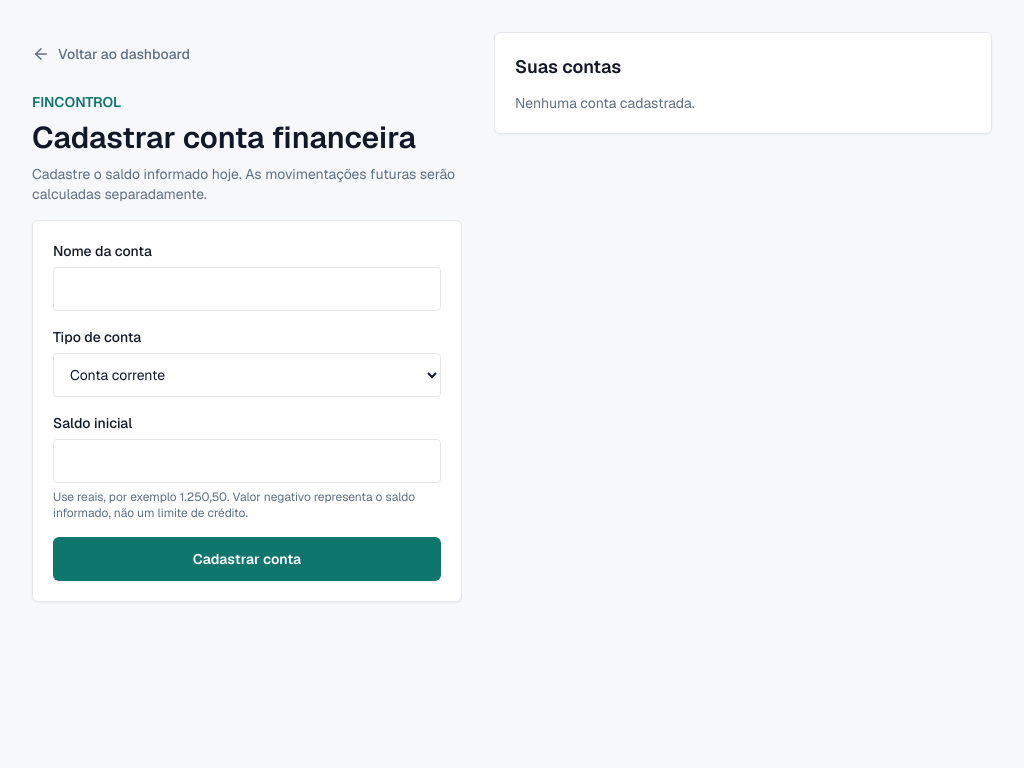
Test: AccountsPage › creates through the injected server flow and lists its persisted result
This screenshot has width=1024, height=768.
Type "Conta do dia a dia" into the field labelled "Nome da conta" at (247, 289), box [53,267,441,311]
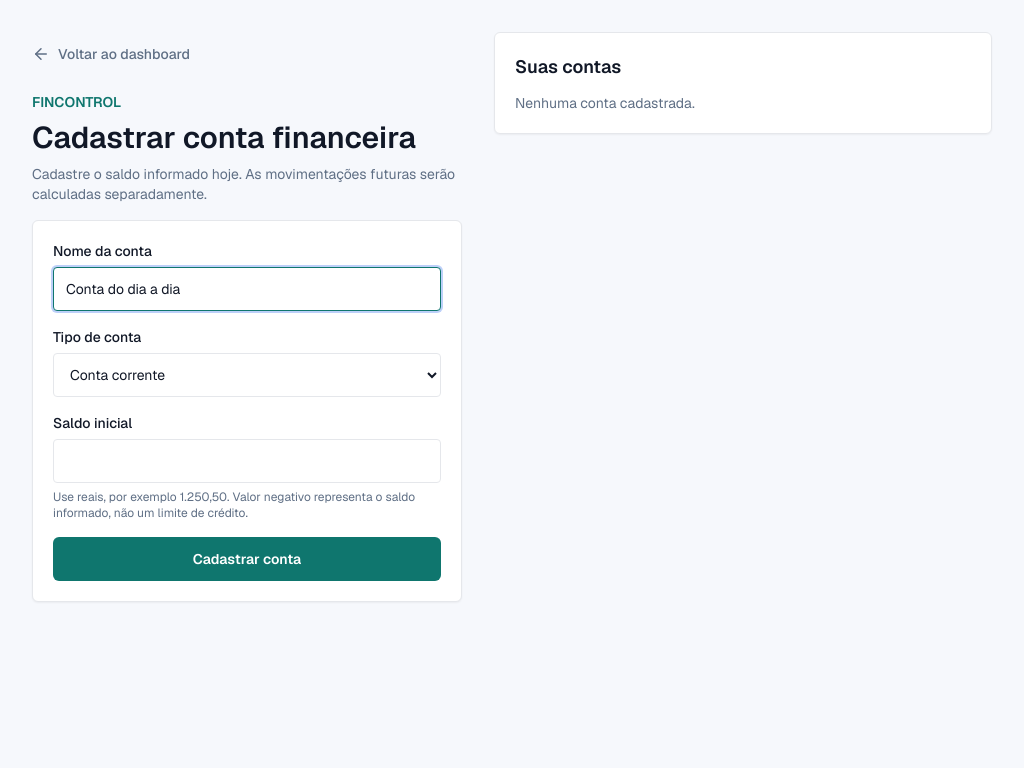
Select "Conta de pagamento" in the dropdown labelled "Tipo de conta" at (247, 375), box [53,353,441,397]
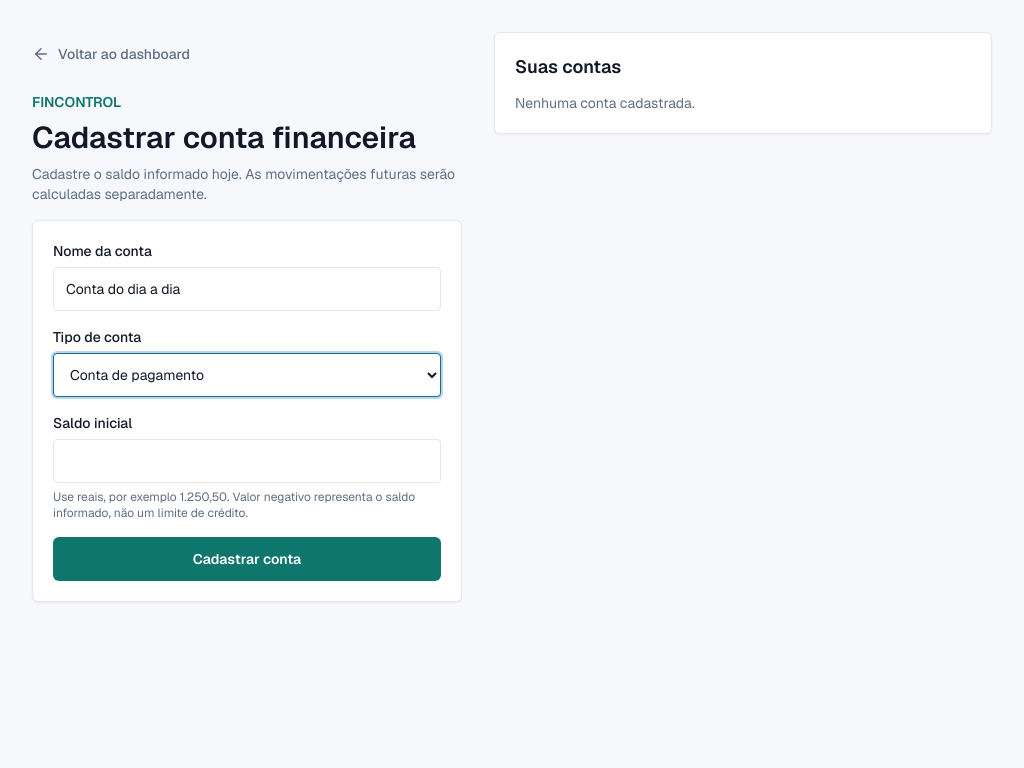
Type "-250,00" into the field labelled "Saldo inicial" at (247, 461), box [53,439,441,483]
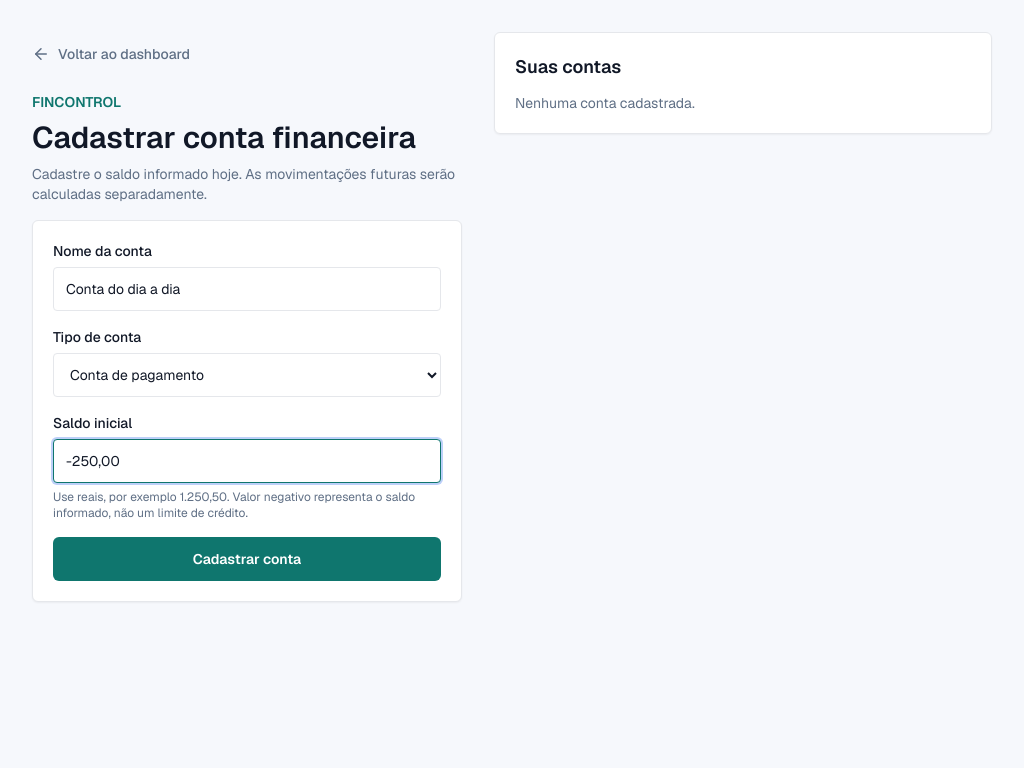
Click the button "Cadastrar conta" at (247, 559), box [53,537,441,581]
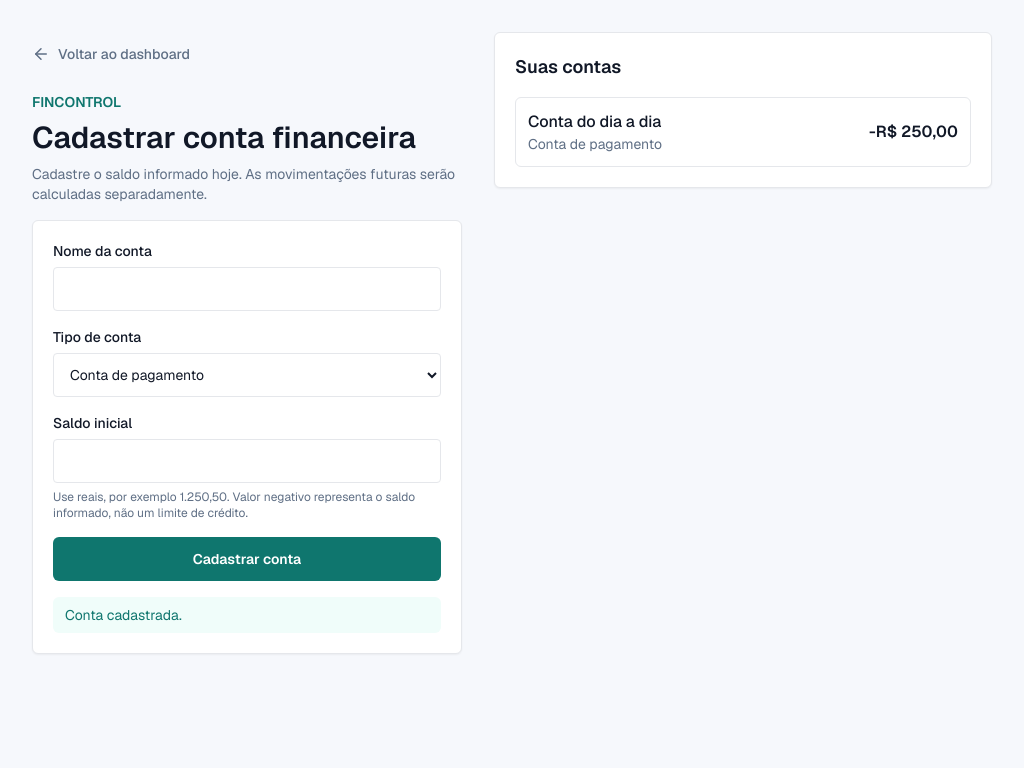
Now the text "Conta do dia a dia" is shown, box [528,111,661,132]
Now the text "Conta de pagamento" is shown, box [528,135,662,153]
Now the text "-R$ 250,00" is shown, box [869,120,958,144]
